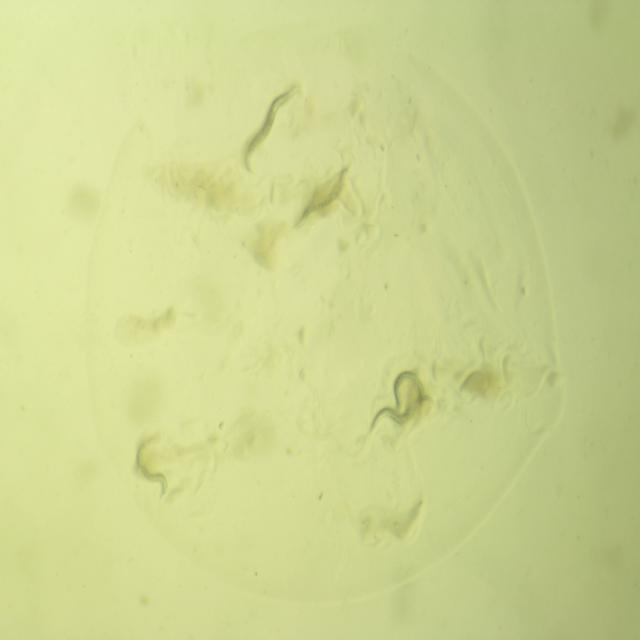worm: (235, 79, 303, 183), (284, 153, 356, 244), (120, 416, 180, 501), (363, 388, 439, 452), (380, 358, 434, 437)
